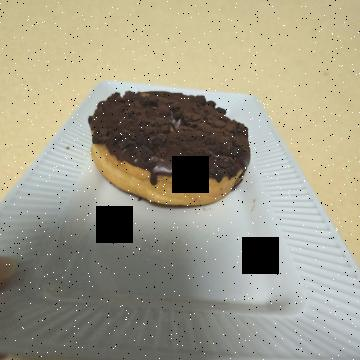doughnut: (80, 94, 235, 291)
